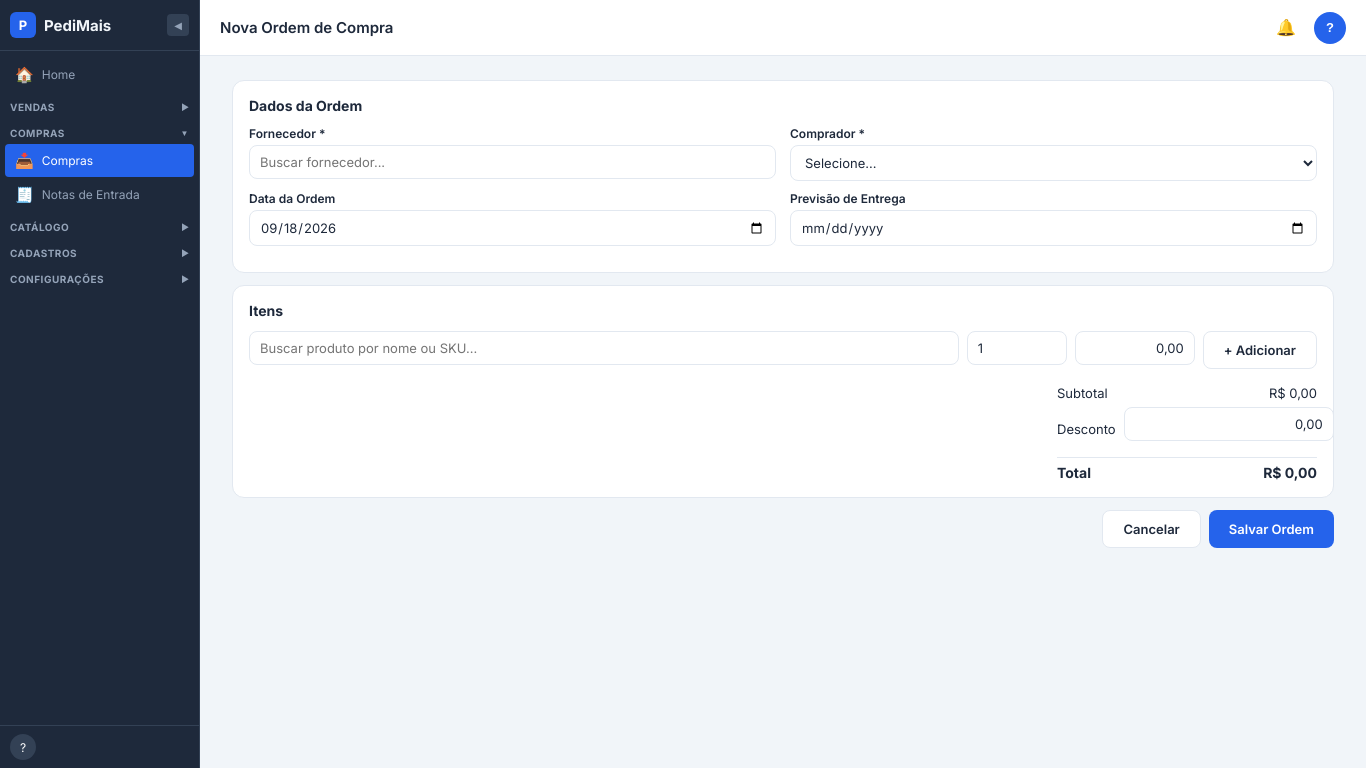
Test case: PurchaseOrderFormView › searches and selects a fornecedor via the busca dropdown
Type "aurora" into the field with test id "fornecedor-busca" at (512,162), box [249,145,776,179]
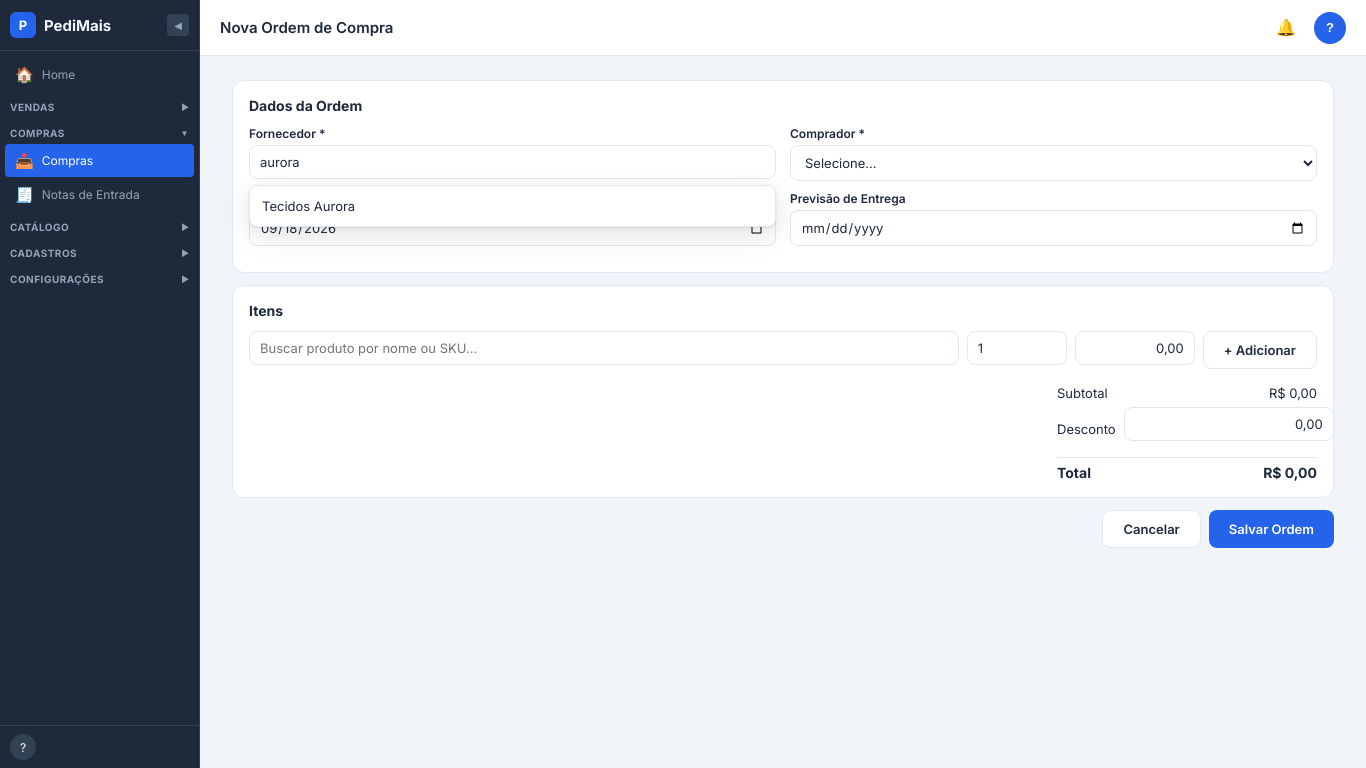
Click the list item "Tecidos Aurora" at (309,206), box [262,198,355,214]
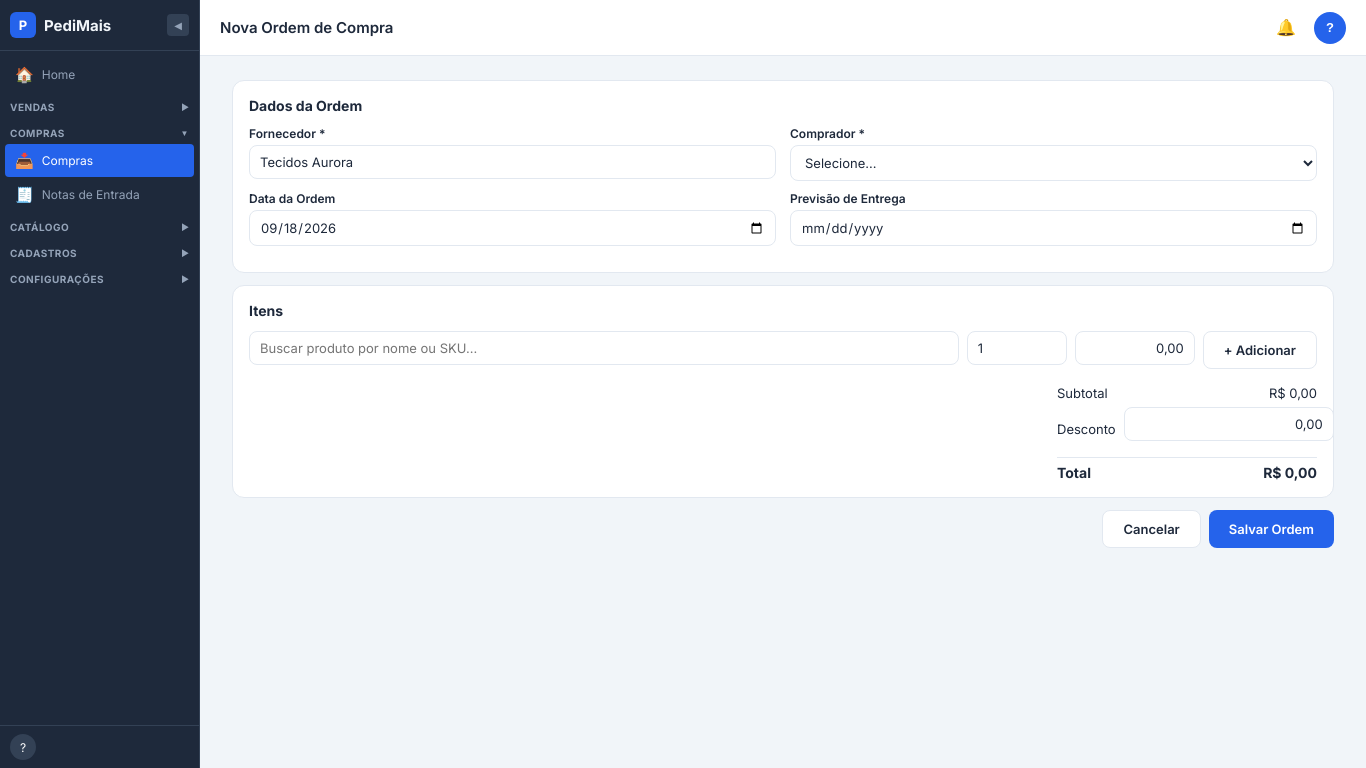
Result: the field with test id "fornecedor-busca" holds "Tecidos Aurora" at [249,145,776,179]
